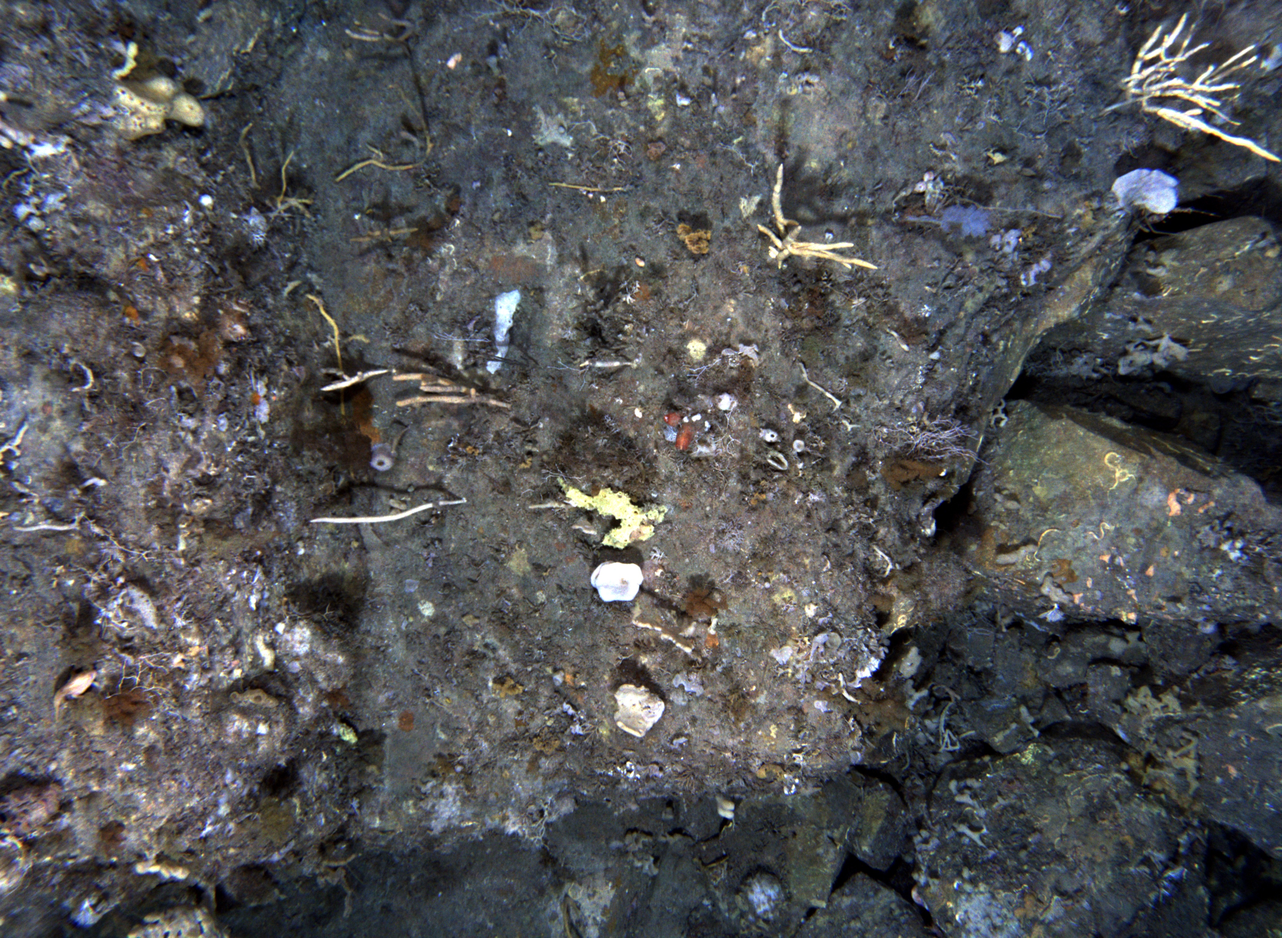Brachionichthyidae: (52, 668, 103, 723)
